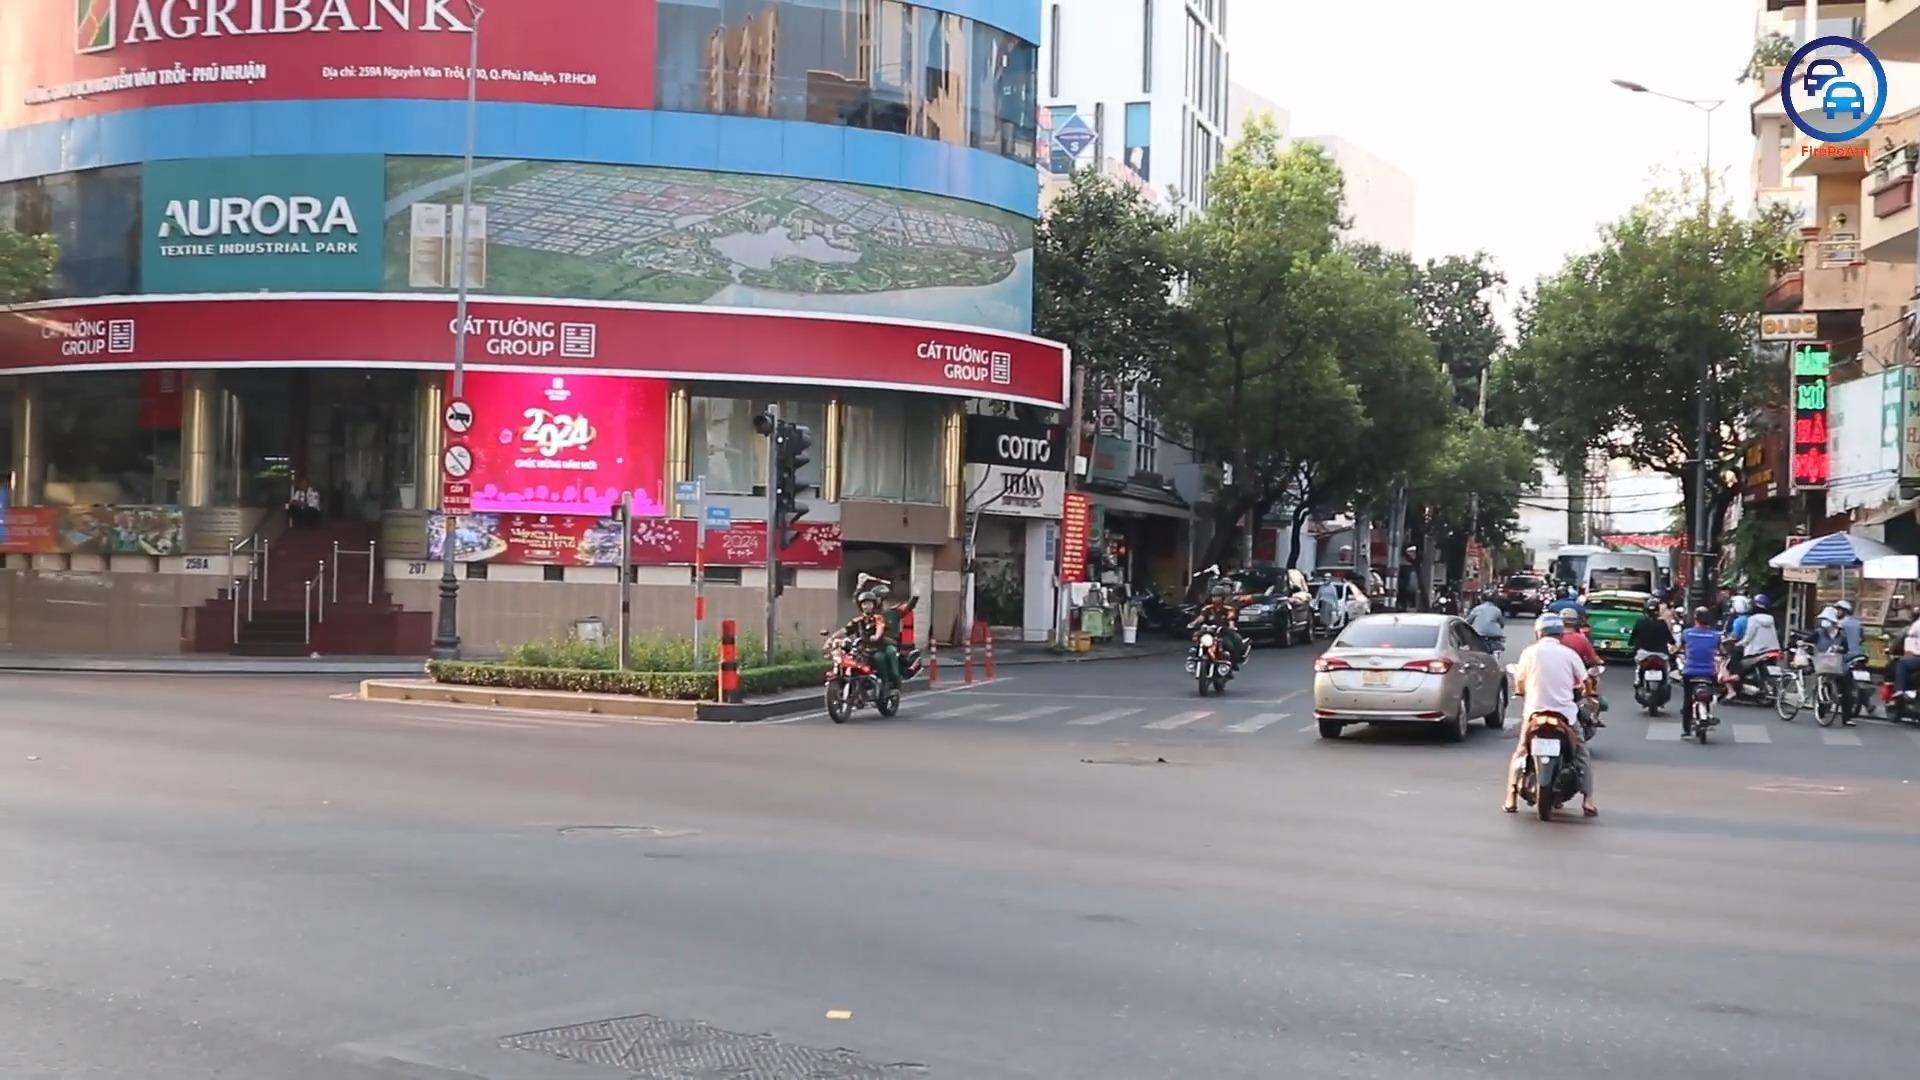bien_so: (1530, 738, 1562, 757), (1360, 669, 1393, 687), (1644, 669, 1664, 682)
